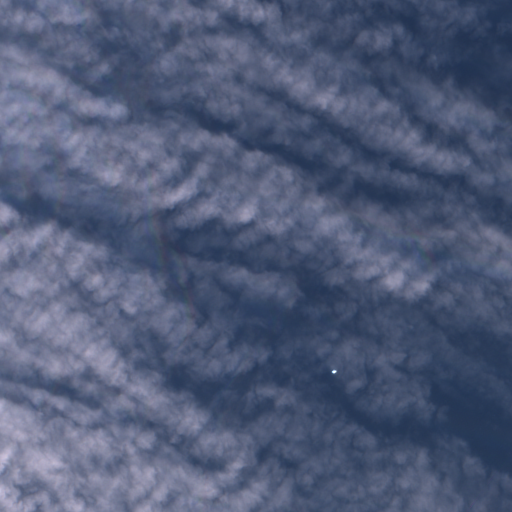Iceberg: (331, 370, 336, 373)
